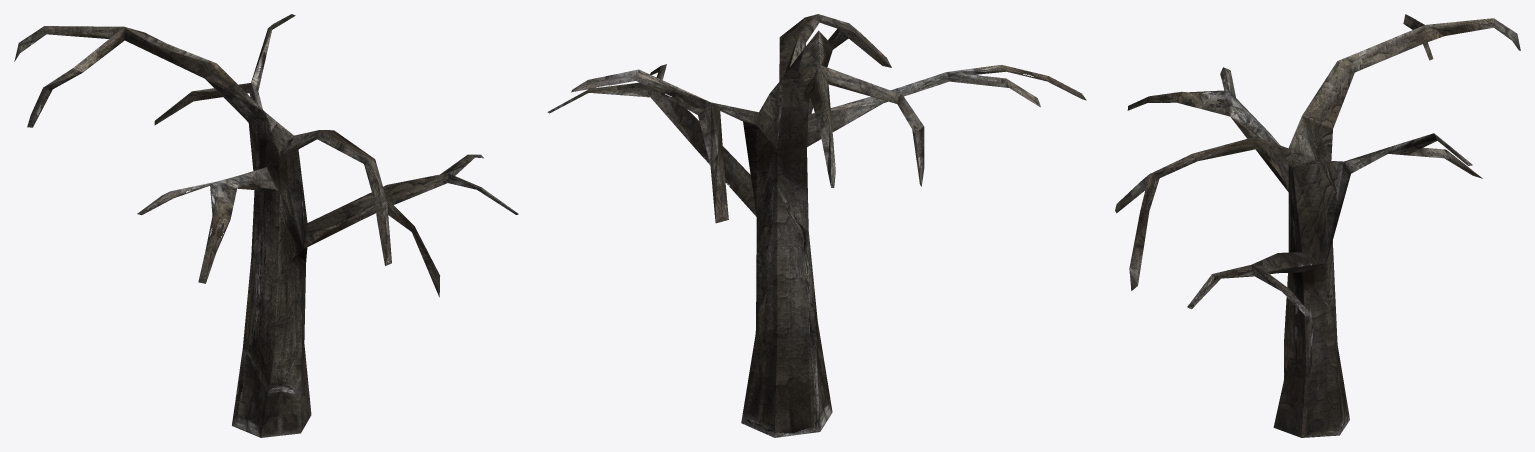
The model's file is tree.obj.
The picture shows the model from 3 angles, left to right: view 1: azimuth 30°, elevation 25°; view 2: azimuth 150°, elevation 25°; view 3: azimuth 270°, elevation 25°; orthographic projection. The views are drawn at different scales.
Parts seen in each view (by area): view 1: hi-res_Tree_Cylinder.014; view 2: hi-res_Tree_Cylinder.014; view 3: hi-res_Tree_Cylinder.014.
Boxes of the visible parts, box(x1,y1,x2,y2) form: hi-res_Tree_Cylinder.014: box(14, 14, 518, 437); hi-res_Tree_Cylinder.014: box(547, 14, 1086, 437); hi-res_Tree_Cylinder.014: box(1115, 14, 1520, 437).
Bounding box in the file's own units: 3.43 × 3.13 × 3.22.
1 material, 1 textured.
